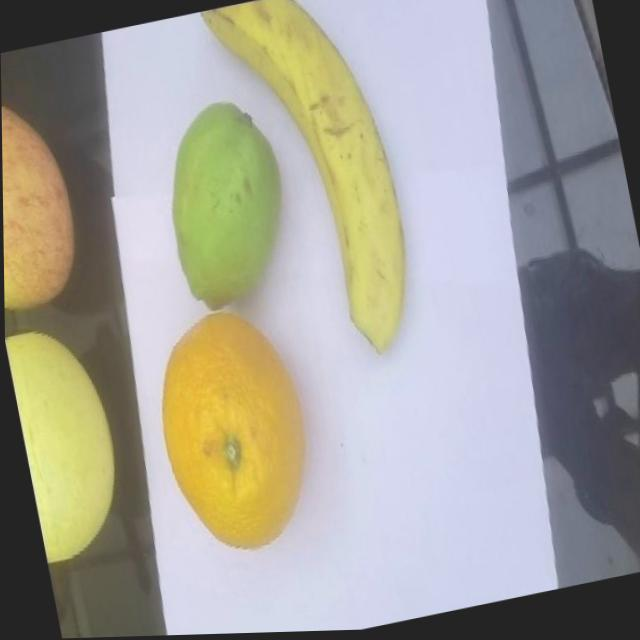Apple: (1, 81, 88, 314)
Banana: (198, 0, 423, 379)
Orange: (140, 298, 324, 564)
